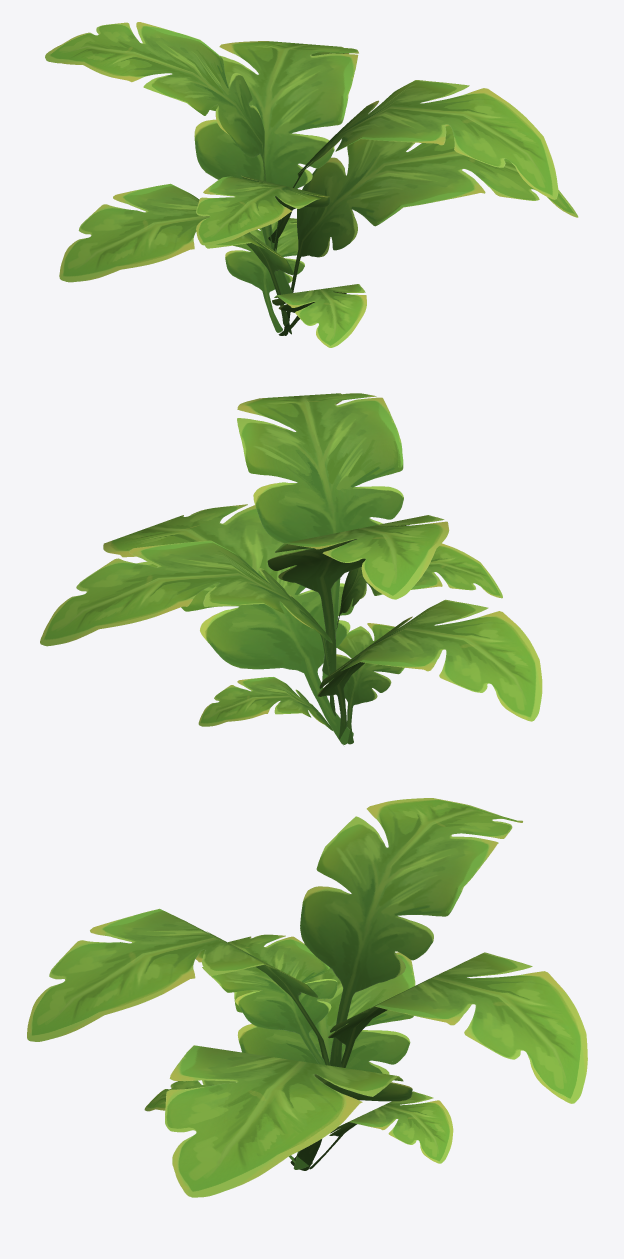
The model's file is MESH_floorplant_large.fbx.
3 renders of one model, top to bottom at view 1: azimuth 30°, elevation 25°; view 2: azimuth 150°, elevation 25°; view 3: azimuth 270°, elevation 25°, orthographic. The views are drawn at different scales.
Parts seen in each view (by area): view 1: Plane.040; view 2: Plane.040; view 3: Plane.040.
Part boxes in pixels (left/top/right/bottom): Plane.040: left=45, top=22, right=578, bottom=347; Plane.040: left=40, top=393, right=542, bottom=745; Plane.040: left=27, top=798, right=587, bottom=1197.
Bounding box in the file's own units: 66.39 × 33.02 × 59.61.
